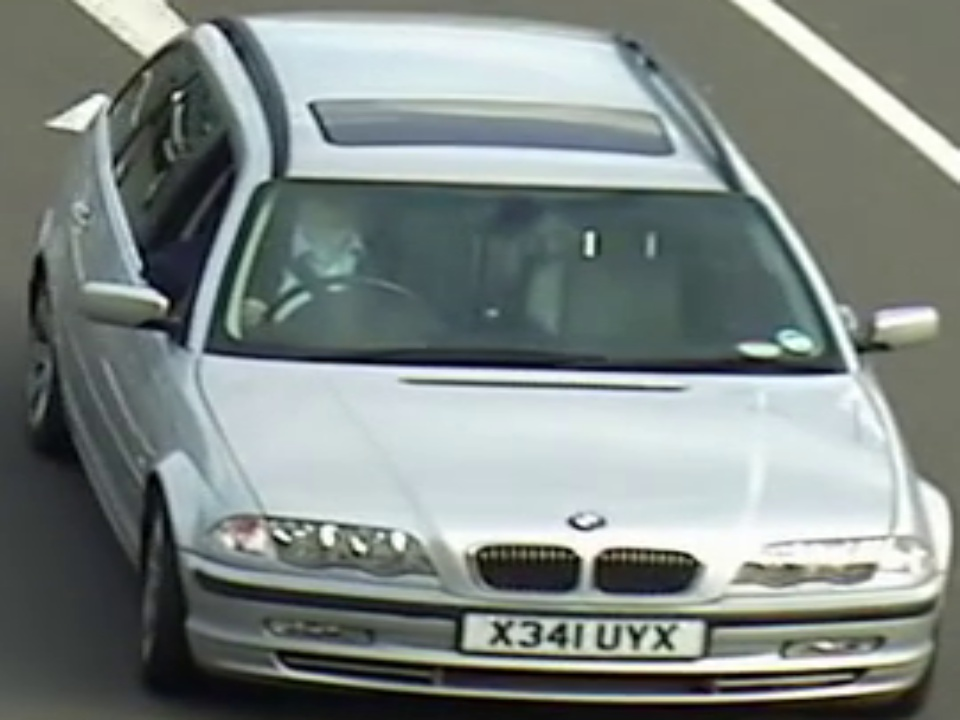ONE: (234, 180, 808, 364)
